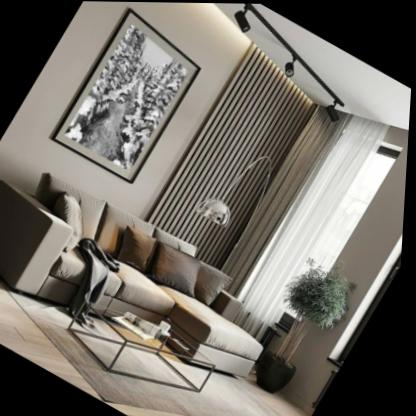Wall Panel: (88, 7, 318, 288)
